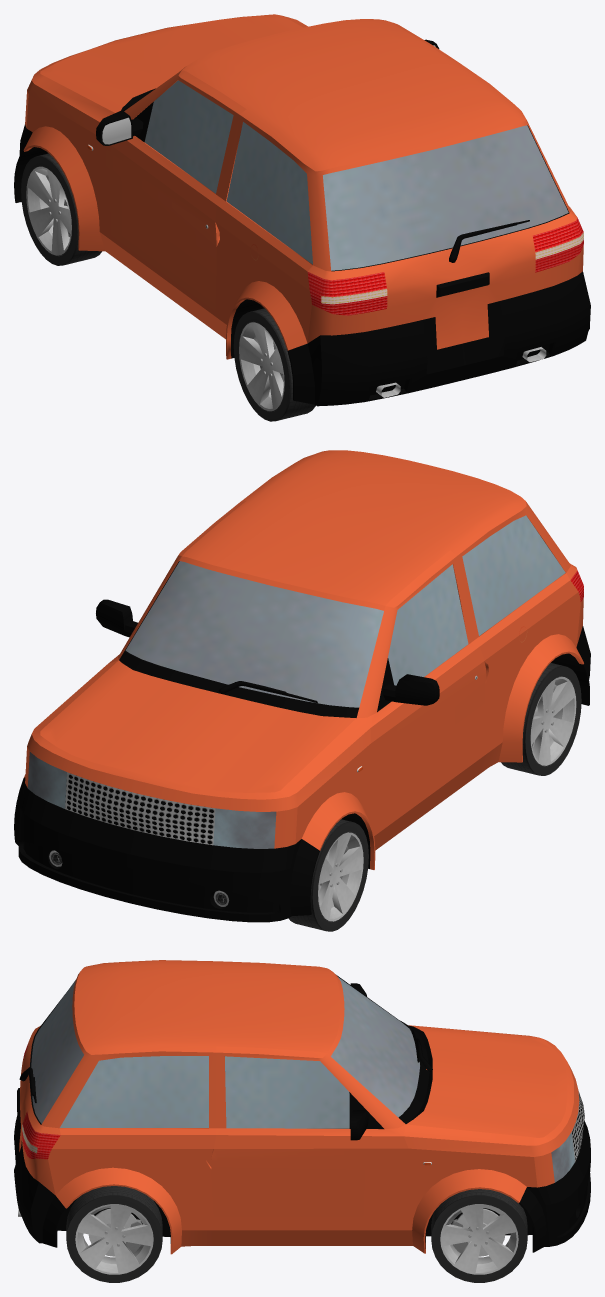
Rendered from orangeCar.gltf.
3 views of the same model, one above another, from view 1: azimuth 30°, elevation 25°; view 2: azimuth 150°, elevation 25°; view 3: azimuth 270°, elevation 25° (orthographic). The views are drawn at different scales.
Visible parts, largest first — view 1: Small car; view 2: Small car; view 3: Small car.
Part boxes in pixels (x1,y1,x2,y2): Small car: [14, 14, 590, 421]; Small car: [14, 450, 590, 931]; Small car: [14, 960, 590, 1282].
Bounding box in the file's own units: 5.42 × 3.98 × 9.3.
3 materials, 3 textured.
